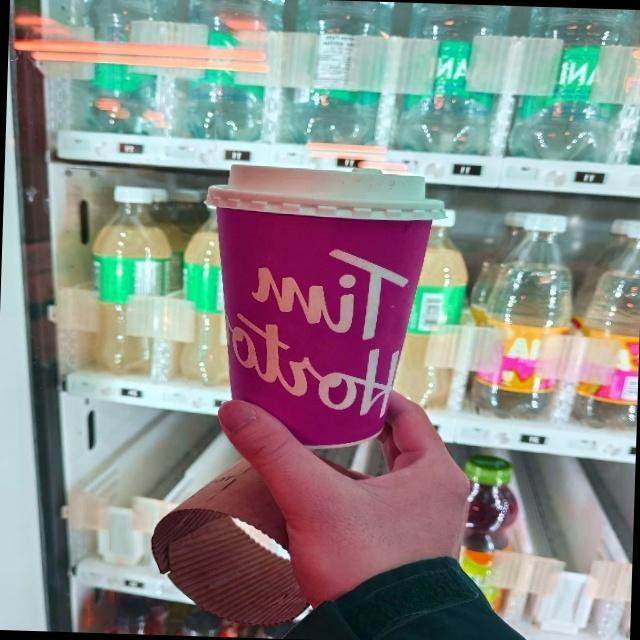timmies: (187, 156, 453, 458)
